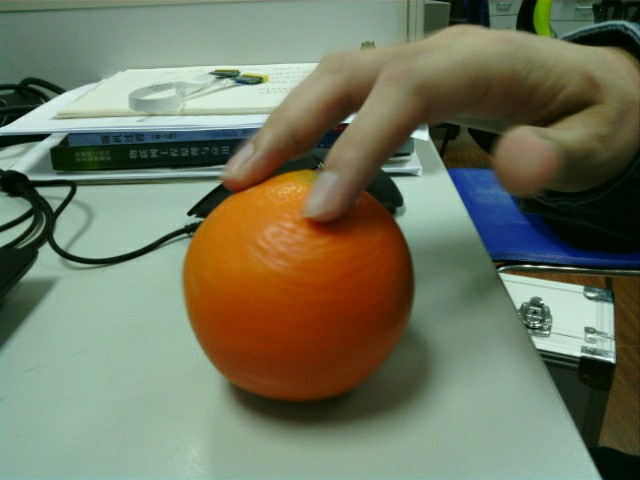normal_orange: (187, 172, 415, 400)
